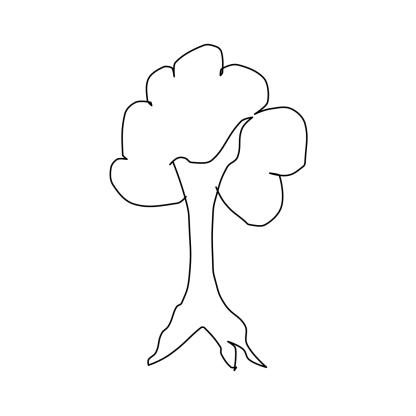branch_sharp: (169, 117, 252, 180)
crown_cloud: (111, 46, 308, 226)
root_only: (147, 320, 266, 369)
trunk_straight: (177, 208, 227, 307)
